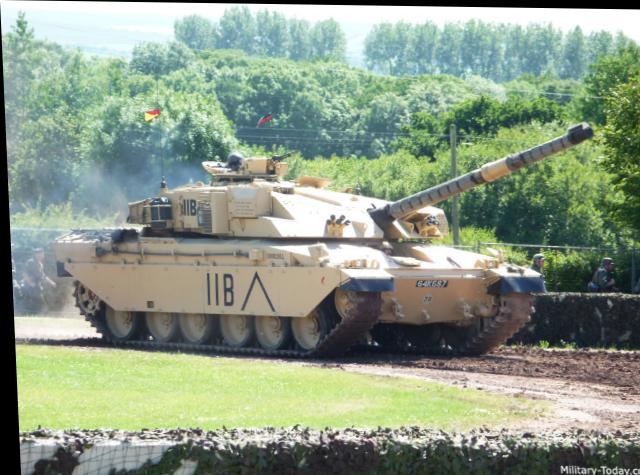tank: (32, 136, 540, 381)
